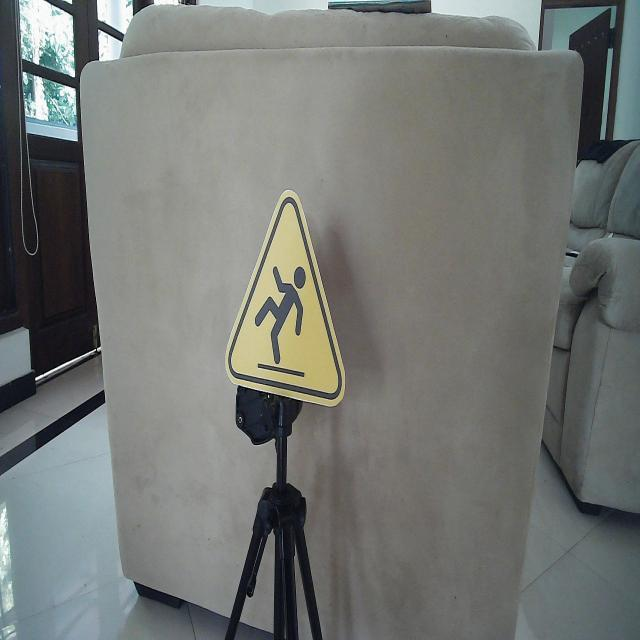slippery_sign: (224, 188, 348, 410)
